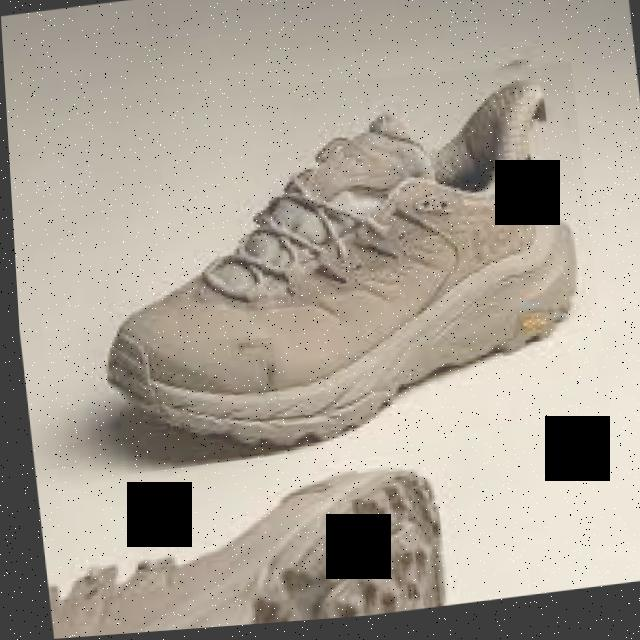shoe: (76, 72, 588, 469)
